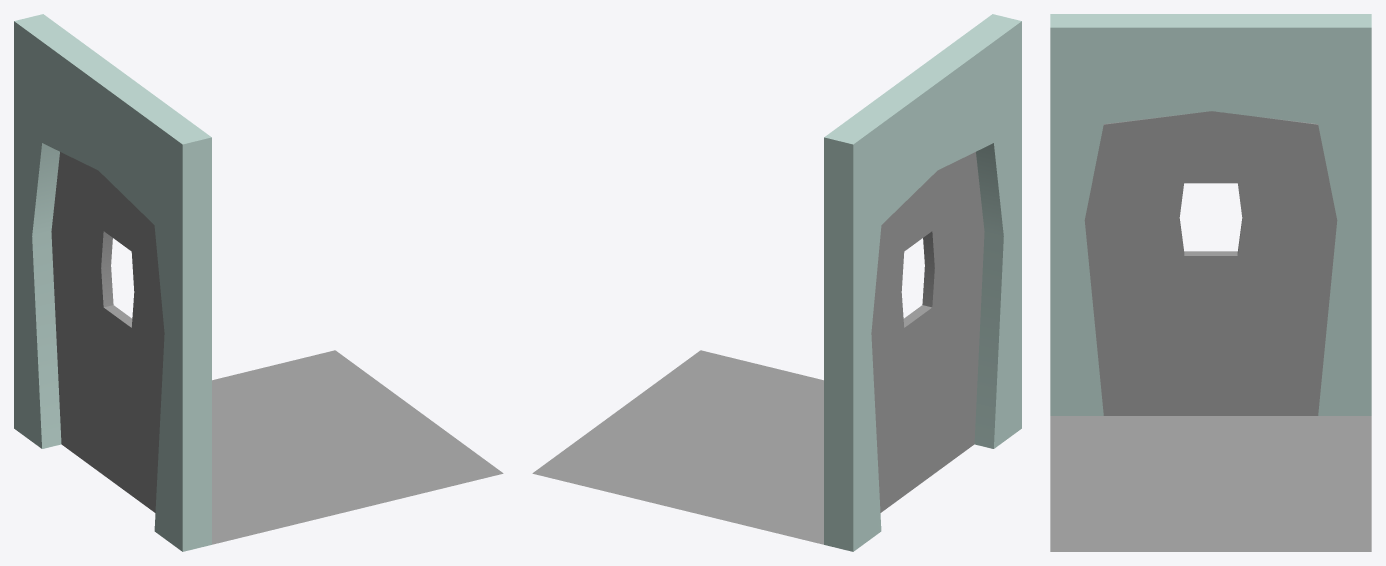
File: Door Tile.fbx
The picture shows the model from 3 angles, left to right: view 1: azimuth 30°, elevation 25°; view 2: azimuth 150°, elevation 25°; view 3: azimuth 270°, elevation 25°; orthographic projection. The views are drawn at different scales.
Visible parts, largest first — view 1: pCube5; view 2: pCube5; view 3: pCube5.
Part boxes in pixels (x1,y1,x2,y2): pCube5: (14, 14, 503, 551); pCube5: (532, 14, 1021, 551); pCube5: (1050, 14, 1371, 551).
Size of the model in its own units: 3.3 by 4 by 3.
